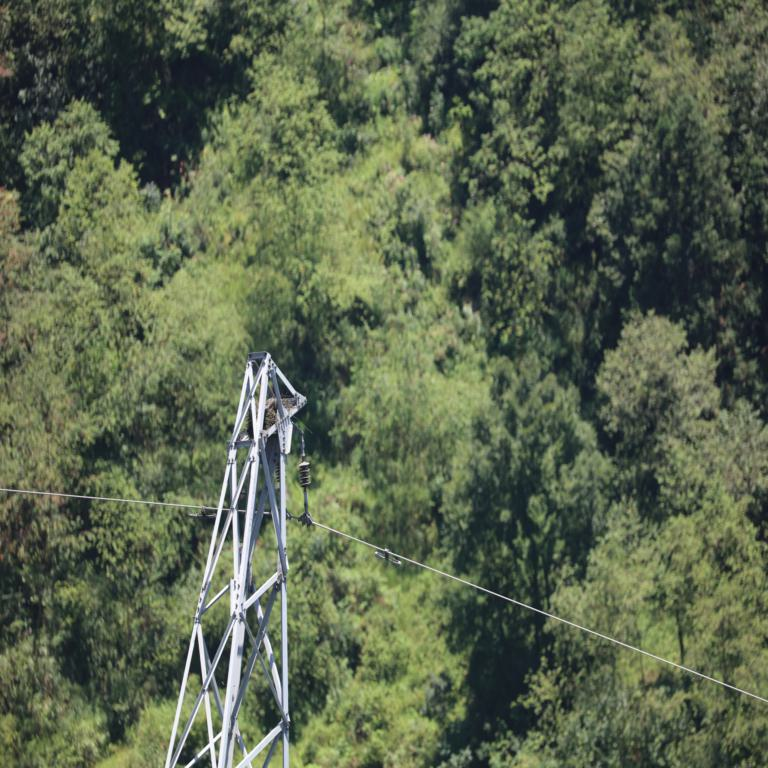nest: (250, 395, 284, 427)
